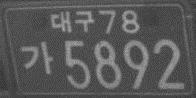2: (150, 37, 185, 91)
5: (62, 38, 91, 90)
7: (97, 9, 117, 35)
8: (93, 39, 123, 89), (120, 10, 140, 35)
9: (122, 39, 150, 91)
가: (19, 39, 54, 75)
대구_O: (49, 9, 95, 35)
